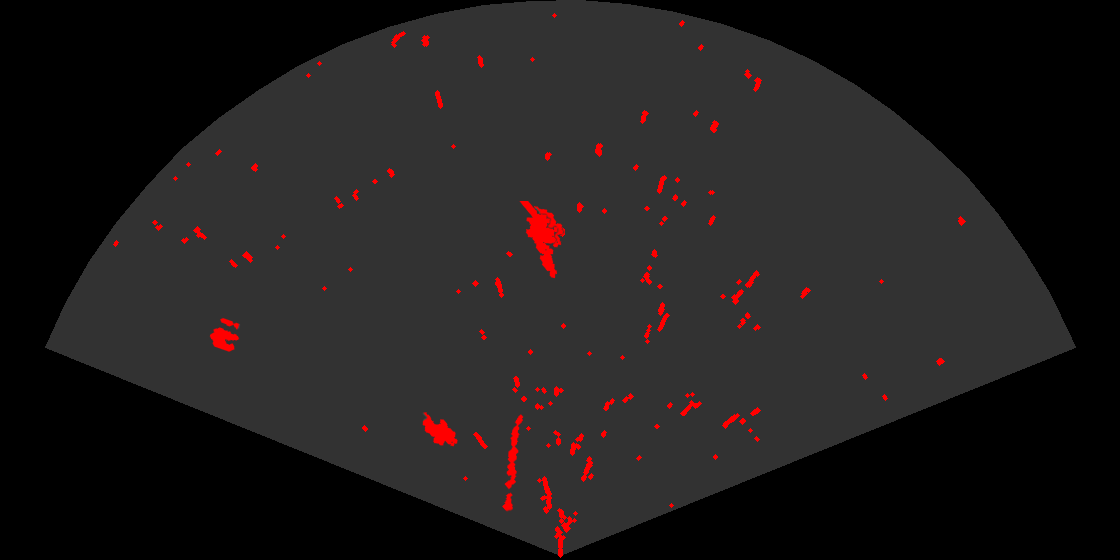AUV: (532, 204, 565, 249), (421, 411, 459, 448)
ball: (208, 316, 241, 353)
chain: (501, 413, 525, 513)
frogman: (518, 201, 559, 280)
